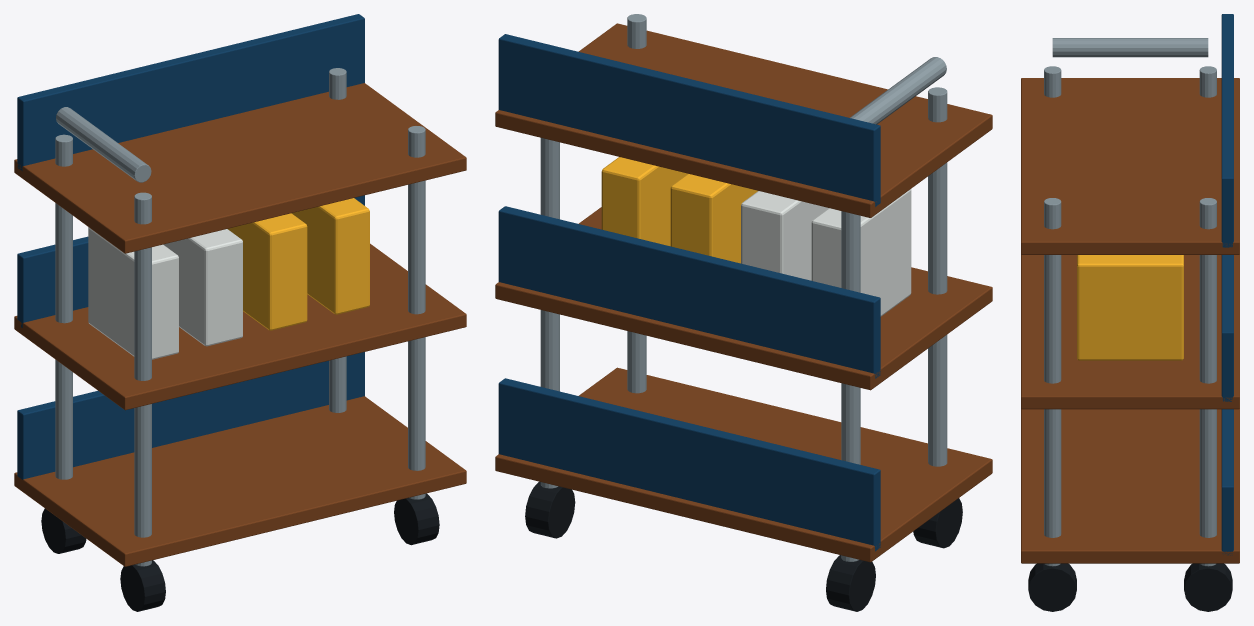
File: edited.glb
The picture shows the model from 3 angles, left to right: view 1: azimuth 30°, elevation 25°; view 2: azimuth 150°, elevation 25°; view 3: azimuth 270°, elevation 25°; orthographic projection. The views are drawn at different scales.
Visible parts, largest first — view 1: SHELF_Deck.002, SHELF_Deck, SHELF_Back.002, SHELF_Deck.001, SHELF_Back, BOOK_Volume.001, BOOK_Volume.003, BOOK_Volume.002, BOOK_Volume, POST.002, POST, POST.001 (+6 smaller); view 2: SHELF_Back, SHELF_Back.001, SHELF_Back.002, SHELF_Deck, SHELF_Deck.002, SHELF_Deck.001, BOOK_Volume.001, POST, BOOK_Volume.002, BOOK_Volume.003, BOOK_Volume, POST.001 (+6 smaller); view 3: SHELF_Deck.002, SHELF_Deck, SHELF_Deck.001, BOOK_Volume, POST.002, POST.003, HANDLE, SHELF_Back.002, CASTER, CASTER.003, SHELF_Back.001, SHELF_Back (+2 smaller).
Part boxes in pixels (box(x1,y1,x2,y2)): SHELF_Deck.002: box(14, 83, 466, 253); SHELF_Deck: box(14, 396, 466, 566); SHELF_Back.002: box(17, 14, 364, 171); SHELF_Deck.001: box(14, 243, 466, 410); SHELF_Back: box(17, 352, 364, 479); BOOK_Volume.001: box(88, 227, 178, 359); BOOK_Volume.003: box(227, 213, 307, 330); BOOK_Volume.002: box(163, 229, 242, 346); BOOK_Volume: box(291, 198, 369, 314); POST.002: box(408, 126, 425, 499); POST: box(134, 192, 151, 566); POST.001: box(55, 134, 72, 479); SHELF_Back: box(498, 378, 880, 551); SHELF_Back.001: box(498, 206, 880, 378); SHELF_Back.002: box(498, 34, 880, 206); SHELF_Deck: box(495, 367, 992, 562); SHELF_Deck.002: box(495, 23, 992, 217); SHELF_Deck.001: box(495, 207, 992, 390); BOOK_Volume.001: box(811, 189, 911, 316); POST: box(928, 87, 947, 466); BOOK_Volume.002: box(741, 191, 828, 280); BOOK_Volume.003: box(670, 173, 757, 263); BOOK_Volume: box(601, 157, 687, 246); POST.001: box(841, 211, 860, 561); SHELF_Deck.002: box(1021, 78, 1239, 254); SHELF_Deck: box(1021, 409, 1239, 563); SHELF_Deck.001: box(1021, 254, 1239, 409); BOOK_Volume: box(1077, 255, 1183, 360); POST.002: box(1044, 198, 1061, 566); POST.003: box(1199, 198, 1216, 566); HANDLE: box(1052, 38, 1208, 57); SHELF_Back.002: box(1221, 14, 1233, 247); CASTER: box(1184, 563, 1232, 611); CASTER.003: box(1028, 563, 1076, 611); SHELF_Back.001: box(1221, 255, 1233, 401); SHELF_Back: box(1221, 409, 1233, 555).
Size of the model in its own units: 0.8 by 1.01 by 0.45.
